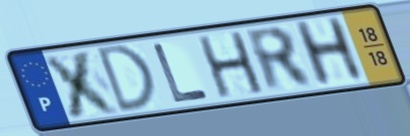D: (94, 42, 161, 117)
H: (289, 14, 368, 90), (194, 29, 269, 101)
L: (149, 41, 213, 106)
R: (241, 25, 318, 95)
X: (38, 47, 125, 120)
